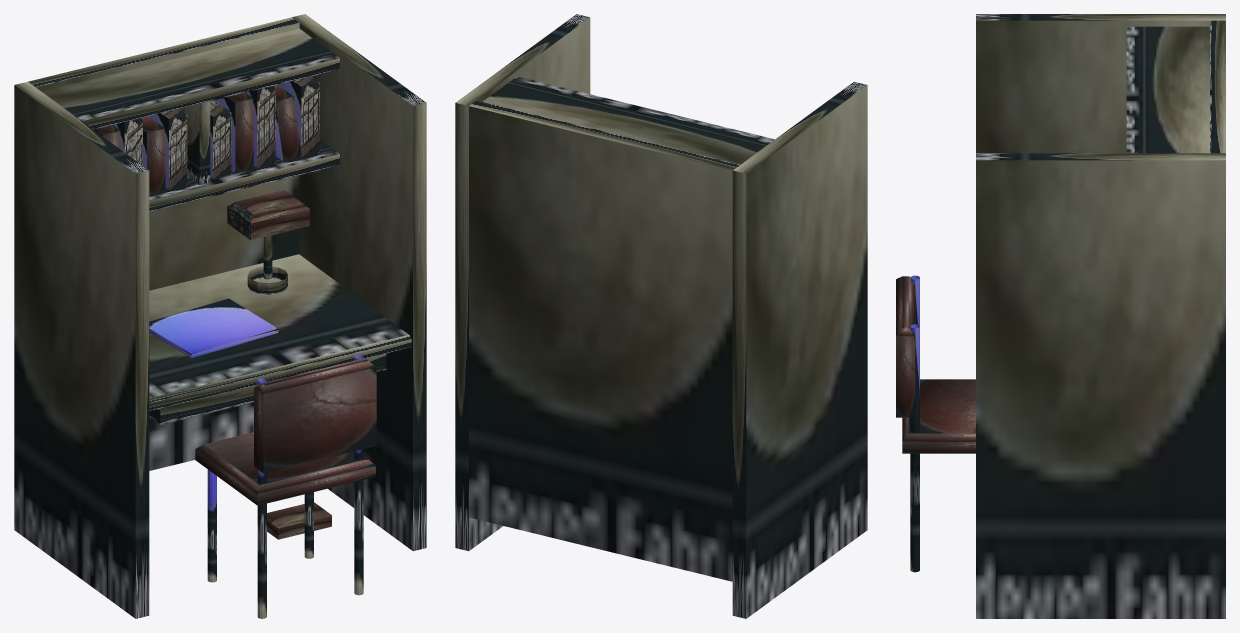
The model's file is sf_pro_dorm_study_carrel.glb.
The picture shows the model from 3 angles, left to right: view 1: azimuth 30°, elevation 25°; view 2: azimuth 150°, elevation 25°; view 3: azimuth 270°, elevation 25°; orthographic projection. The views are drawn at different scales.
Parts seen in each view (by area): view 1: ProDormStudyCarrel_Root, ProDormStudyCarrel_AnimPart; view 2: ProDormStudyCarrel_Root; view 3: ProDormStudyCarrel_Root.
Part boxes in pixels (x1,y1,x2,y2): ProDormStudyCarrel_Root: (14,14,426,618); ProDormStudyCarrel_AnimPart: (267,502,331,539); ProDormStudyCarrel_Root: (455,14,867,618); ProDormStudyCarrel_Root: (896,14,1225,618).
Bounding box in the file's own units: 1.08 × 1.6 × 1.03.
Materials: 1 (1 with a texture image).
